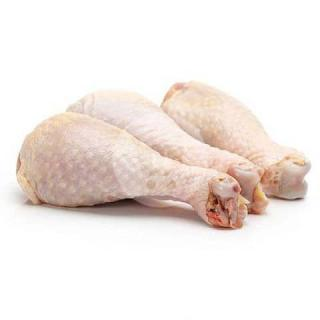Ayam: (16, 79, 314, 232), (15, 111, 252, 233), (64, 89, 273, 217), (158, 79, 314, 205)
